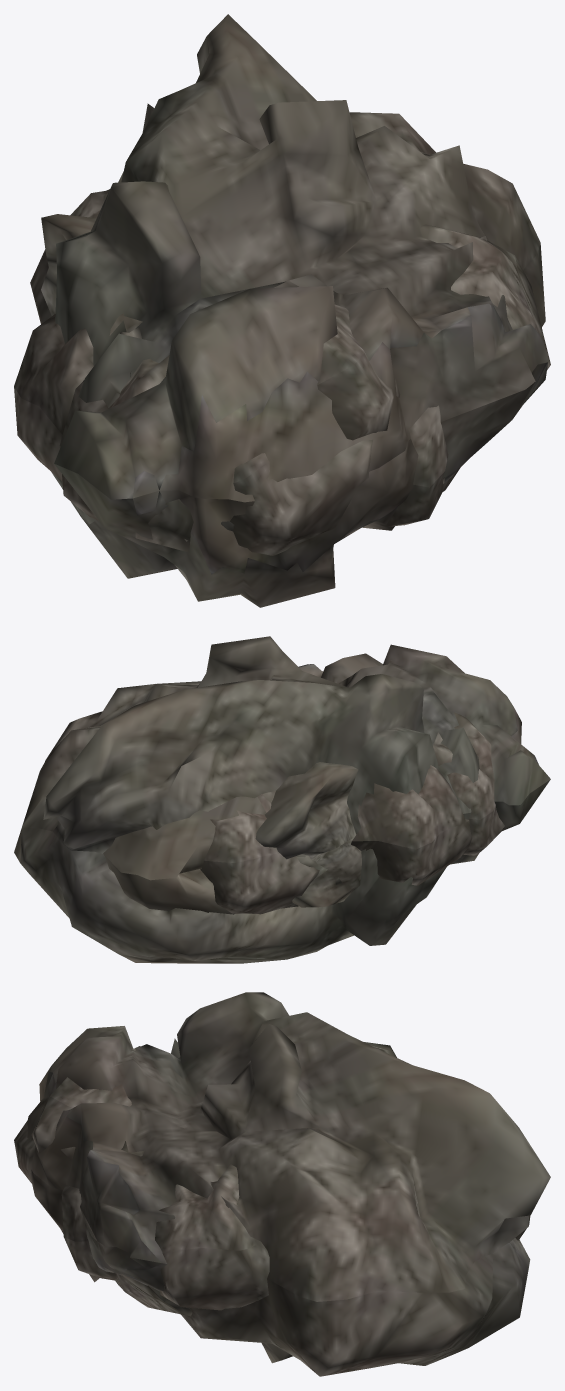
File: SM_pal_b00_Rock_MineableRocks_GroundRevealRock_CliffBent_1d200c.glb
3 views of the same model, one above another, from view 1: azimuth 30°, elevation 25°; view 2: azimuth 150°, elevation 25°; view 3: azimuth 270°, elevation 25° (orthographic). The views are drawn at different scales.
Size of the model in its own units: 3.7 by 2.72 by 3.9.
1 material, 1 textured.
